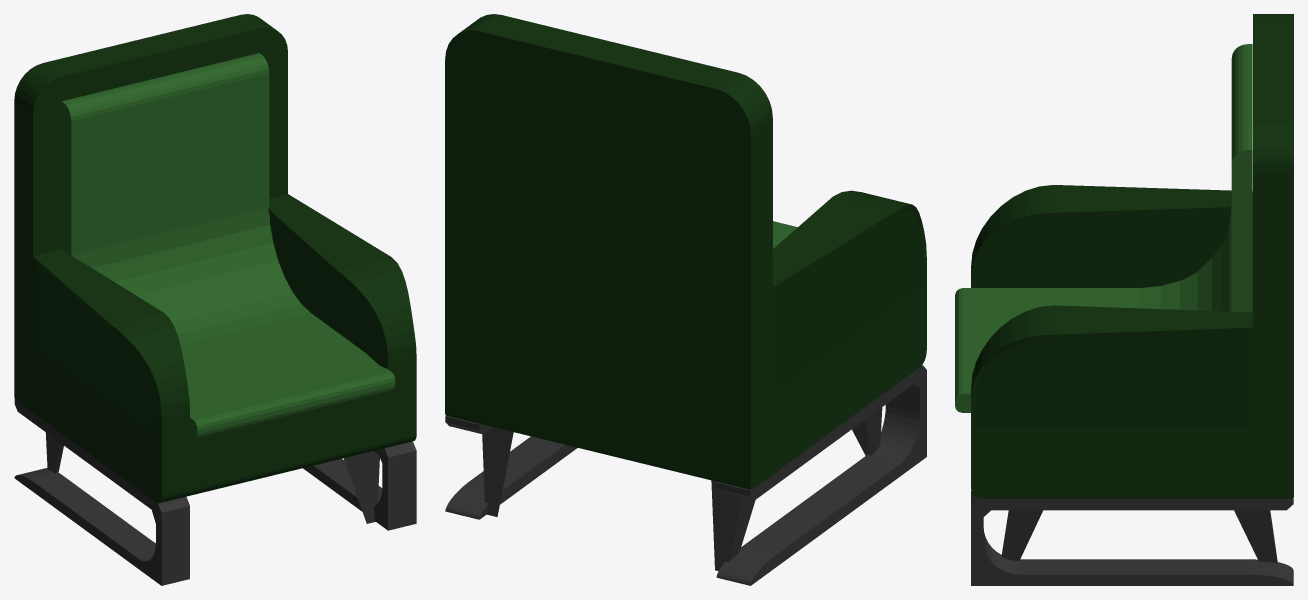
File: chair.gltf
3 views of the same model, side by side, from view 1: azimuth 30°, elevation 25°; view 2: azimuth 150°, elevation 25°; view 3: azimuth 270°, elevation 25° (orthographic). The views are drawn at different scales.
Visible parts, largest first — view 1: Chair, Cushion, Legs1, Legs2; view 2: Chair, Legs1, Legs2; view 3: Chair, Cushion, Legs1, Legs2.
Boxes of the visible parts, box(x1,y1,x2,y2) form: Chair: box(14, 14, 416, 503); Cushion: box(61, 53, 395, 438); Legs1: box(14, 399, 416, 585); Legs2: box(45, 432, 379, 523); Chair: box(445, 14, 926, 489); Legs1: box(445, 365, 926, 585); Legs2: box(482, 407, 882, 570); Chair: box(971, 14, 1293, 498); Cushion: box(955, 44, 1252, 412); Legs1: box(971, 491, 1293, 585); Legs2: box(1001, 510, 1277, 563).
Bounding box in the file's own units: 2.2 × 3.07 × 2.1.
